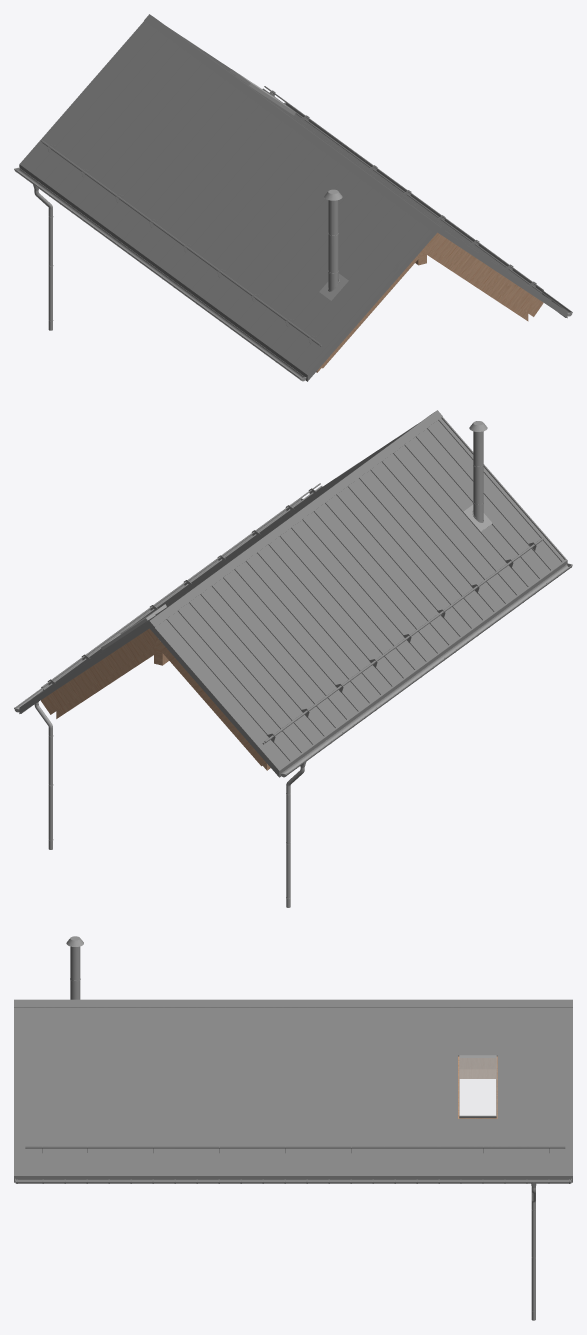
File: Light_Roof.glb
3 views of the same model, one above another, from view 1: azimuth 30°, elevation 25°; view 2: azimuth 150°, elevation 25°; view 3: azimuth 270°, elevation 25° (orthographic). The views are drawn at different scales.
Visible parts, largest first — view 1: Light_White_Roof, Alumininum_1_Light_Roof, Interior_Wood_Light_Roof; view 2: Light_White_Roof, Alumininum_1_Light_Roof, Interior_Wood_Light_Roof; view 3: Light_White_Roof, Alumininum_1_Light_Roof, Glass_Light_Roof, Interior_Wood_Light_Roof.
Part boxes in pixels (bbox=[...]): Light_White_Roof: bbox=[19, 14, 567, 381]; Alumininum_1_Light_Roof: bbox=[14, 69, 572, 381]; Interior_Wood_Light_Roof: bbox=[316, 232, 543, 372]; Light_White_Roof: bbox=[19, 410, 567, 777]; Alumininum_1_Light_Roof: bbox=[14, 421, 572, 907]; Interior_Wood_Light_Roof: bbox=[41, 628, 270, 770]; Light_White_Roof: bbox=[14, 999, 572, 1182]; Alumininum_1_Light_Roof: bbox=[15, 936, 571, 1320]; Glass_Light_Roof: bbox=[459, 1056, 495, 1115]; Interior_Wood_Light_Roof: bbox=[458, 1056, 497, 1118].
Bounding box in the file's own units: 2.54 × 2.66 × 4.64.
Materials: 5 (1 with a texture image).
